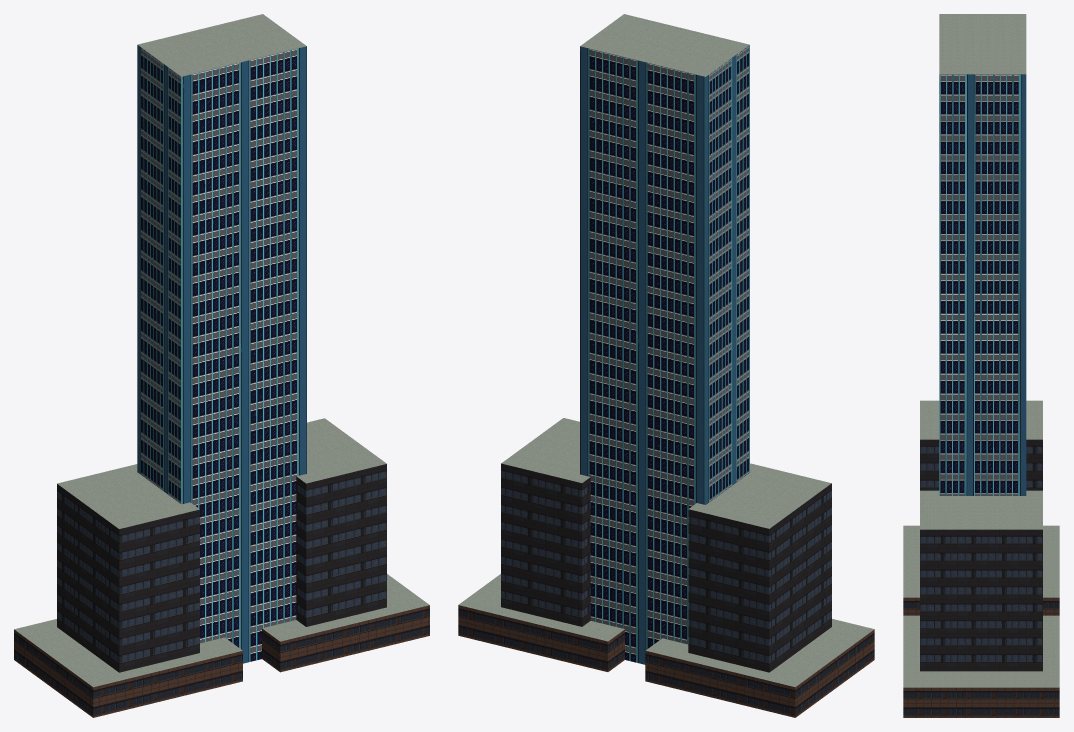
The model's file is BGN_BCW BUILD 4.fbx.
3 renders of one model, left to right at view 1: azimuth 30°, elevation 25°; view 2: azimuth 150°, elevation 25°; view 3: azimuth 270°, elevation 25°, orthographic.
Visible parts, largest first — view 1: BGN_BCW_BUILD_2; view 2: BGN_BCW_BUILD_2; view 3: BGN_BCW_BUILD_2.
Part boxes in pixels (x1,y1,x2,y2): BGN_BCW_BUILD_2: (14, 14, 429, 717); BGN_BCW_BUILD_2: (458, 14, 874, 717); BGN_BCW_BUILD_2: (903, 14, 1059, 717).
Bounding box in the file's own units: 8202 × 14008 × 3343.
